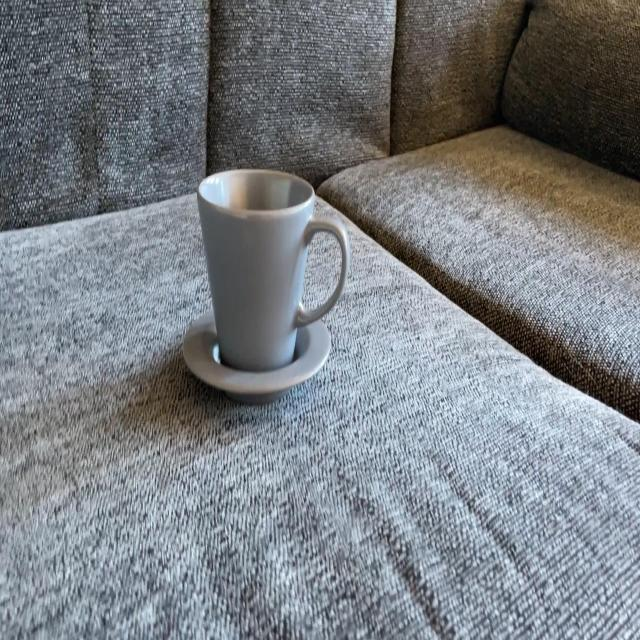cup: (195, 166, 348, 368)
